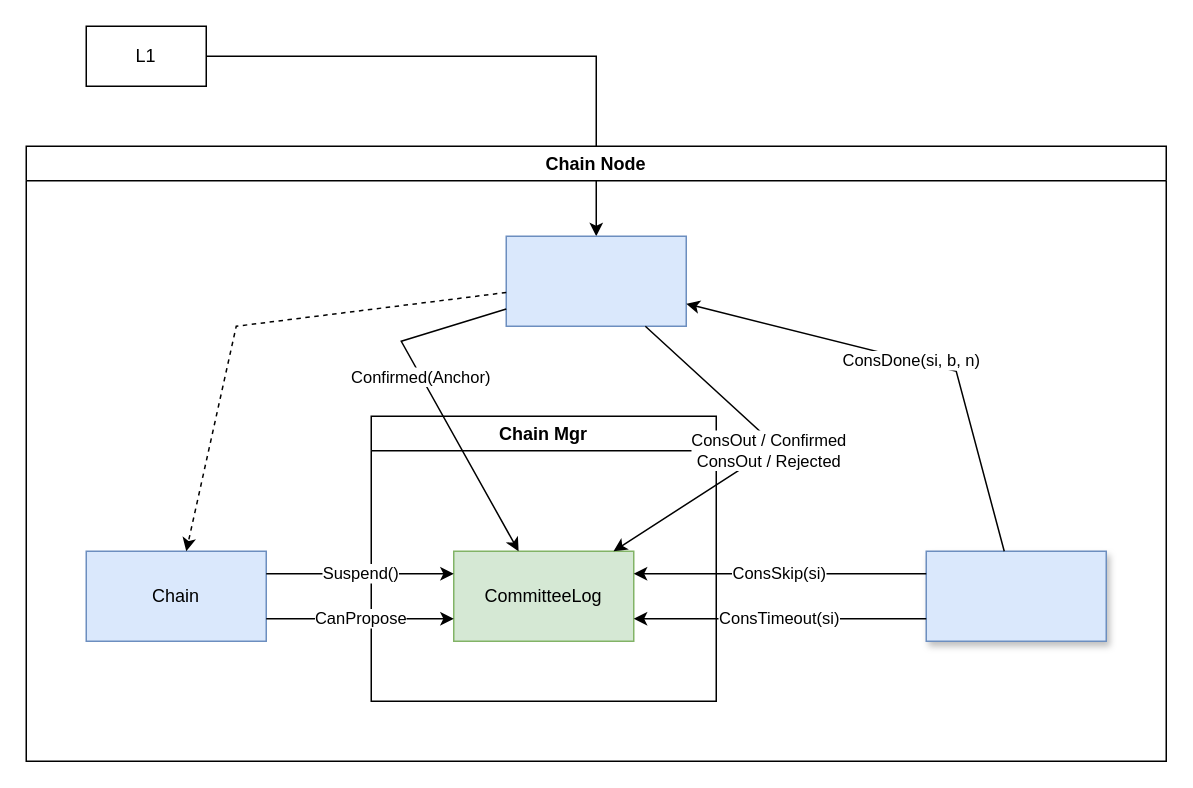
This 1193x788 diagram has some shape labels left out. The centre of each missing label's shape, as x and y in pixels:
"ConsInst" belongs at pixel 1017 598.
"NodeConn" belongs at pixel 595 280.
